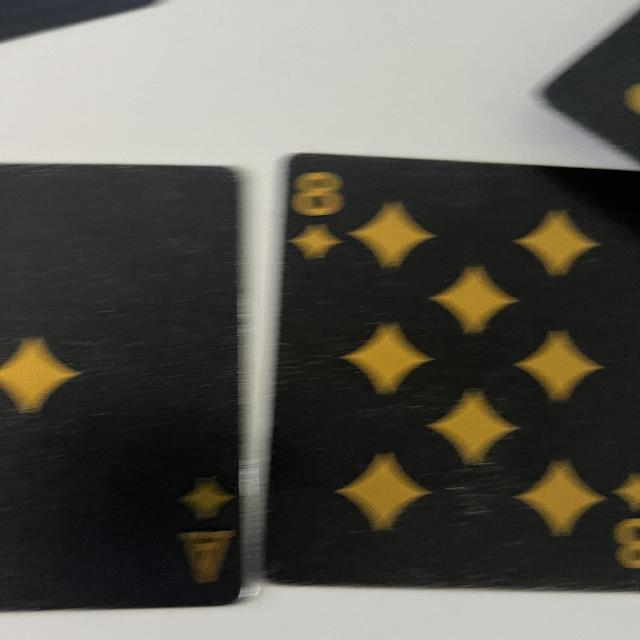8D: (282, 160, 349, 263), (614, 472, 640, 573)
AD: (172, 479, 244, 588)
